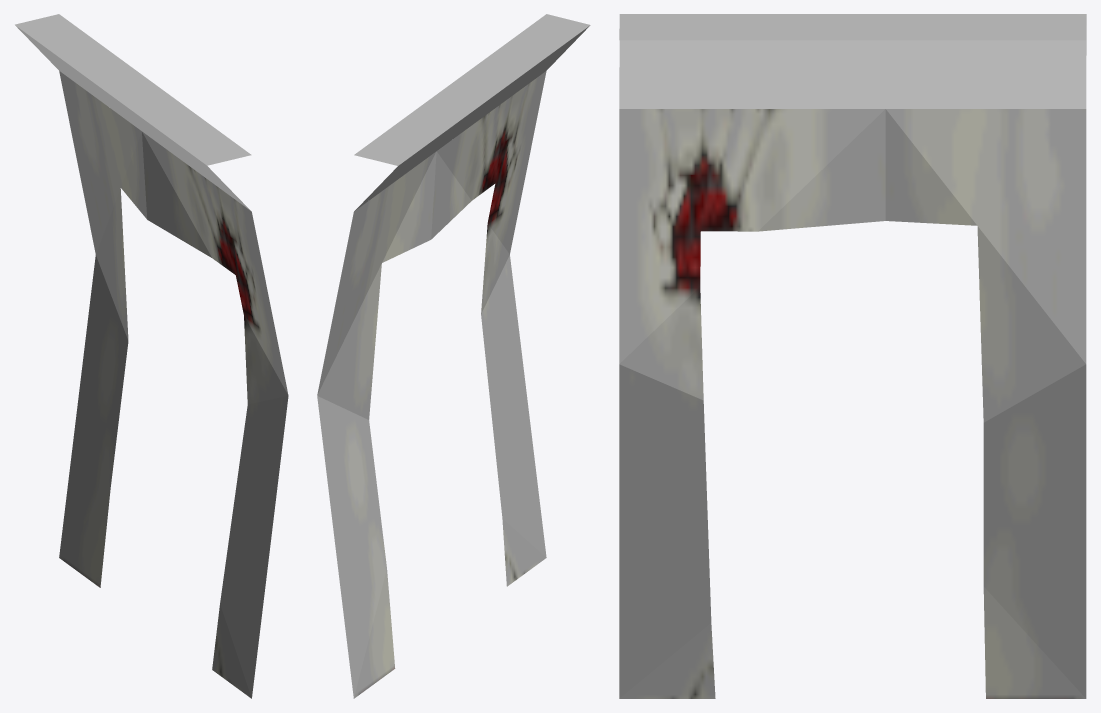
Rendered from W_A3_o [Verwahrlost2]_1427.glb.
3 views of the same model, side by side, from view 1: azimuth 30°, elevation 25°; view 2: azimuth 150°, elevation 25°; view 3: azimuth 270°, elevation 25° (orthographic). The views are drawn at different scales.
Visible parts, largest first — view 1: polySurfaceShape1213, polySurfaceShape1215; view 2: polySurfaceShape1213, polySurfaceShape1215; view 3: polySurfaceShape1213, polySurfaceShape1215.
Part boxes in pixels (bbox=[...]): polySurfaceShape1213: bbox=[59, 71, 288, 698]; polySurfaceShape1215: bbox=[15, 14, 251, 211]; polySurfaceShape1213: bbox=[317, 71, 546, 698]; polySurfaceShape1215: bbox=[354, 14, 590, 211]; polySurfaceShape1213: bbox=[619, 109, 1086, 698]; polySurfaceShape1215: bbox=[619, 14, 1086, 108].
Size of the model in its own units: 0.0607 by 0.3891 by 0.2503.
2 materials, 2 textured.
